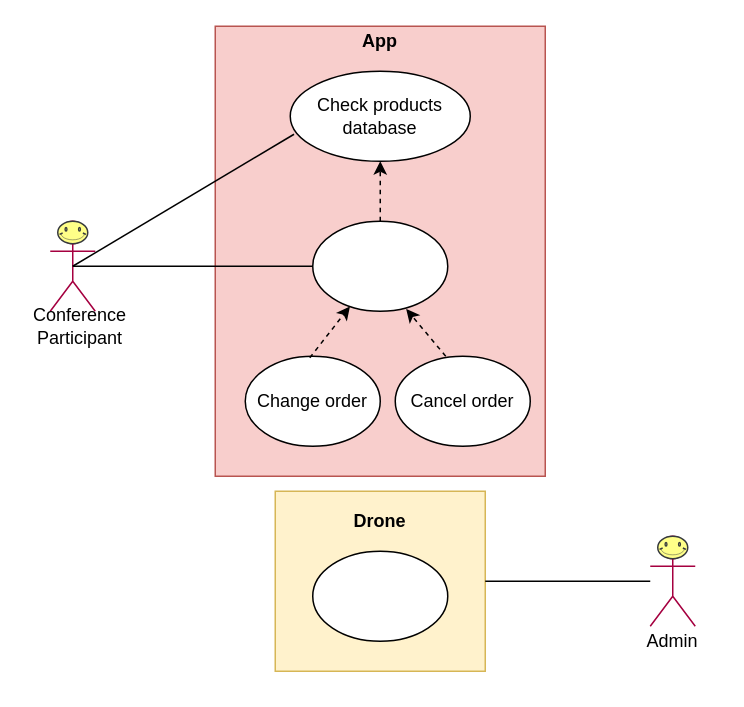
This 744x707 diagram has some shape labels left out. Here are the shapes that lost their labels. From the top down, the centre of each, then its label:
the point at 379,265: Make order
the point at 379,595: Deliver Order
